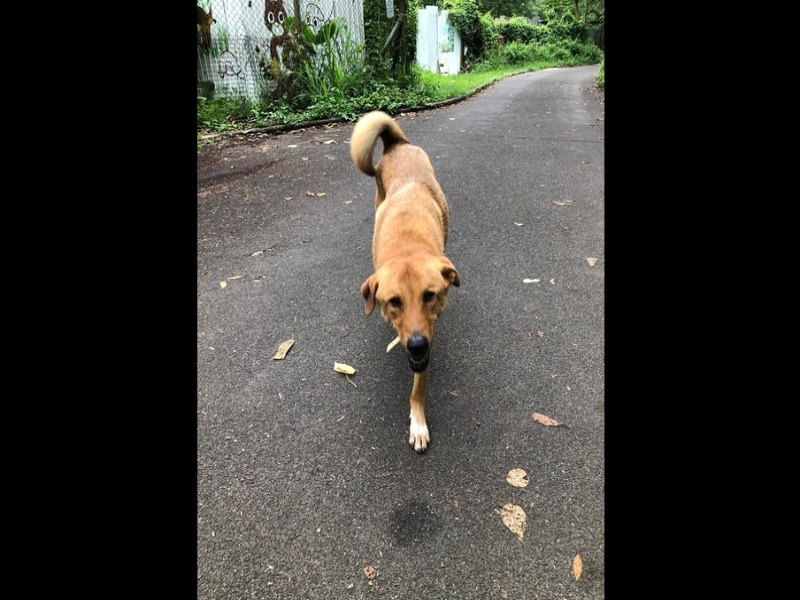dog: (347, 108, 466, 459)
